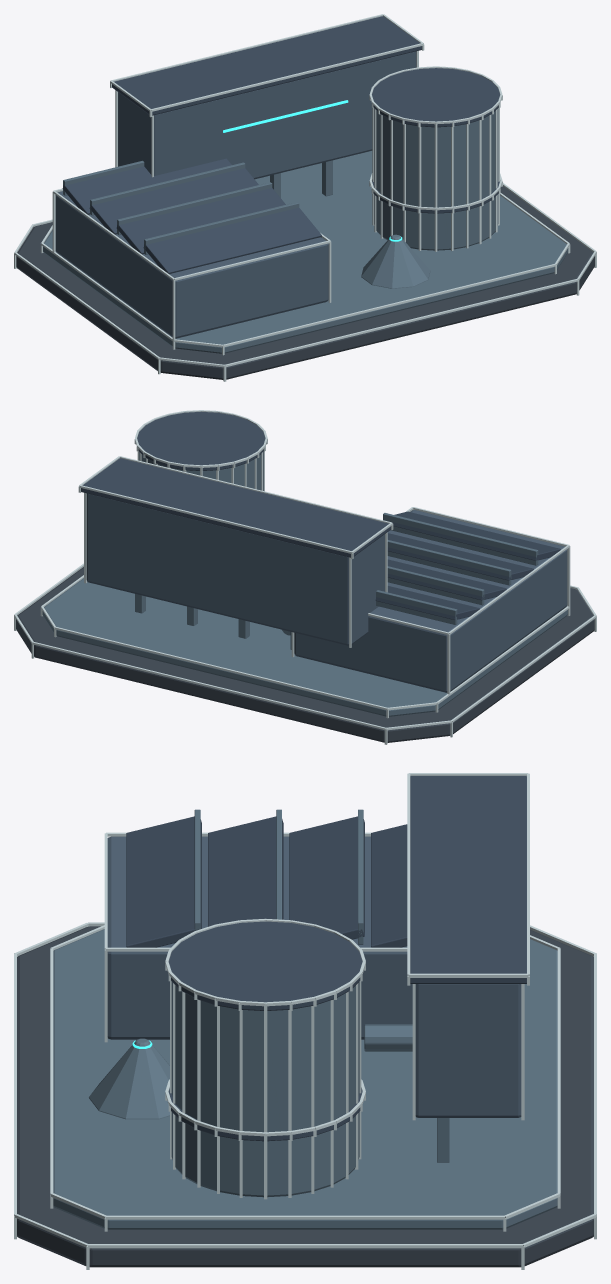
Rendered from project-kaizen-metrics-v1.glb.
3 renders of one model, top to bottom at view 1: azimuth 30°, elevation 25°; view 2: azimuth 150°, elevation 25°; view 3: azimuth 270°, elevation 25°, orthographic. The views are drawn at different scales.
Parts seen in each view (by area): view 1: project-kaizen-metrics-v1__mesh-structure-mid__001, project-kaizen-metrics-v1__mesh-structure-dark__001, project-kaizen-metrics-v1__mesh-roof__001, project-kaizen-metrics-v1__mesh-ground__001, project-kaizen-metrics-v1__technical-lines__001, project-kaizen-metrics-v1__mesh-accent__001; view 2: project-kaizen-metrics-v1__mesh-structure-dark__001, project-kaizen-metrics-v1__mesh-structure-mid__001, project-kaizen-metrics-v1__mesh-roof__001, project-kaizen-metrics-v1__mesh-ground__001, project-kaizen-metrics-v1__technical-lines__001; view 3: project-kaizen-metrics-v1__mesh-structure-mid__001, project-kaizen-metrics-v1__mesh-roof__001, project-kaizen-metrics-v1__mesh-ground__001, project-kaizen-metrics-v1__mesh-structure-dark__001, project-kaizen-metrics-v1__technical-lines__001.
Boxes of the visible parts, x1,y1,x2,y2 form: project-kaizen-metrics-v1__mesh-structure-mid__001: (43,108,568,353); project-kaizen-metrics-v1__mesh-structure-dark__001: (55,51,416,338); project-kaizen-metrics-v1__mesh-roof__001: (62,16,500,274); project-kaizen-metrics-v1__mesh-ground__001: (16,186,594,379); project-kaizen-metrics-v1__technical-lines__001: (14,14,596,381); project-kaizen-metrics-v1__mesh-accent__001: (223,100,402,241); project-kaizen-metrics-v1__mesh-structure-dark__001: (86,493,567,692); project-kaizen-metrics-v1__mesh-structure-mid__001: (42,451,567,716); project-kaizen-metrics-v1__mesh-roof__001: (81,411,560,620); project-kaizen-metrics-v1__mesh-ground__001: (16,567,594,742); project-kaizen-metrics-v1__technical-lines__001: (14,410,596,744); project-kaizen-metrics-v1__mesh-structure-mid__001: (53,809,557,1229); project-kaizen-metrics-v1__mesh-roof__001: (126,776,526,1141); project-kaizen-metrics-v1__mesh-ground__001: (17,926,593,1267); project-kaizen-metrics-v1__mesh-structure-dark__001: (107,836,521,1117); project-kaizen-metrics-v1__technical-lines__001: (14,773,596,1269).
Bounding box in the file's own units: 42.17 × 14.96 × 32.17.
